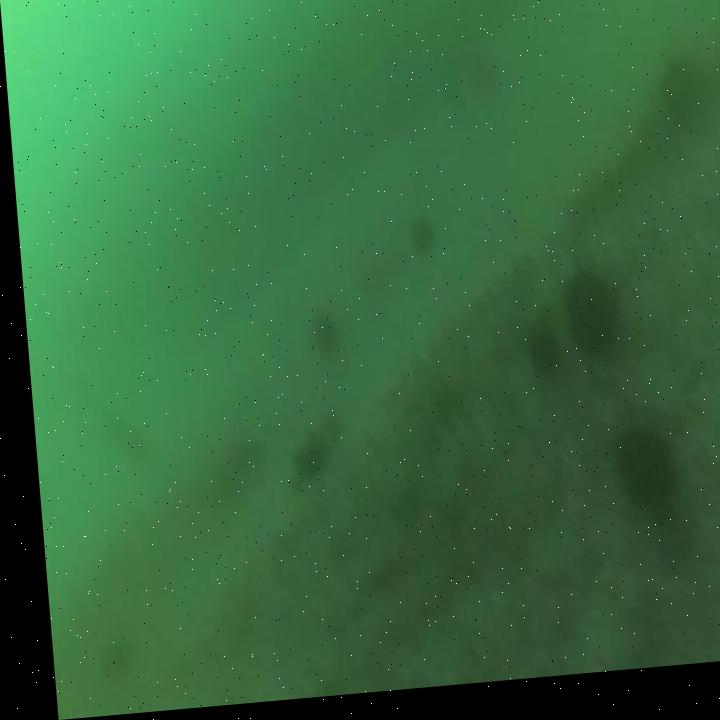echinus: (599, 421, 670, 540), (554, 275, 619, 378), (650, 62, 702, 149), (280, 425, 329, 492), (82, 631, 129, 698), (517, 324, 558, 387), (298, 307, 335, 363), (400, 215, 433, 272)
